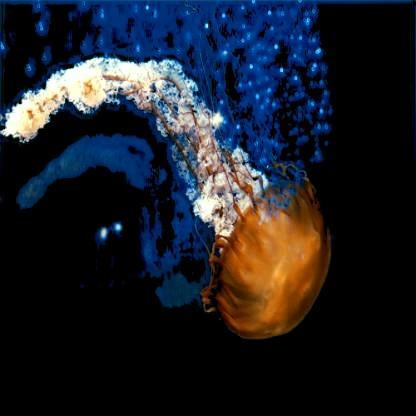Dressed: (7, 58, 331, 335)
